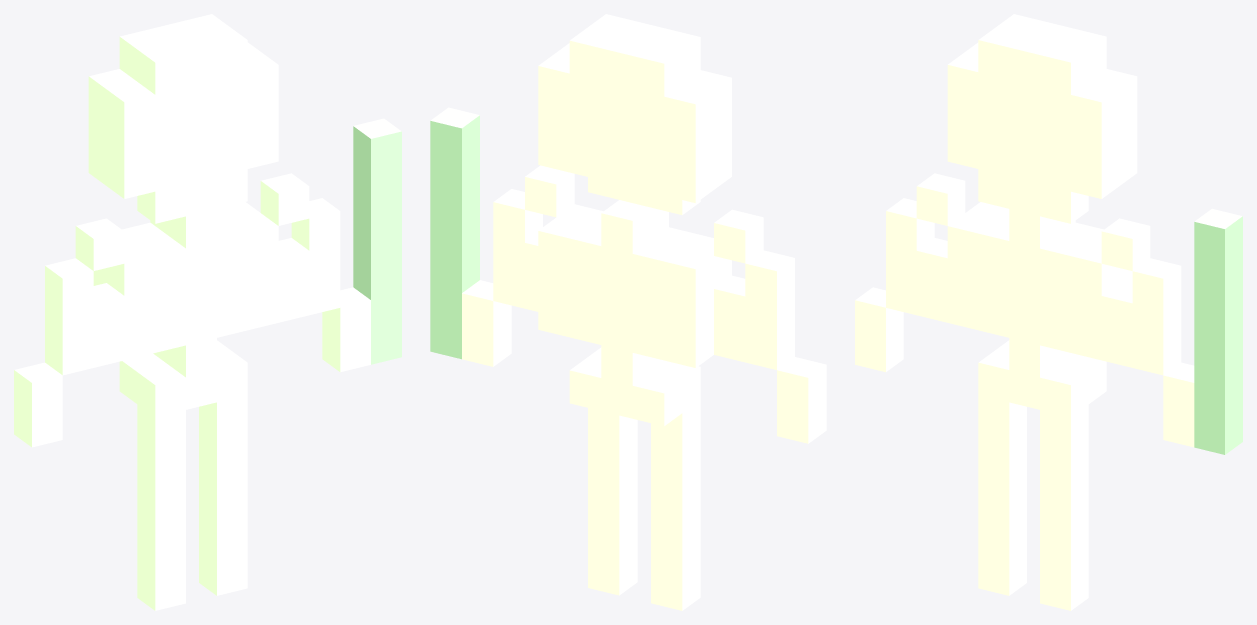
File: skeleton_minion.glb
3 renders of one model, left to right at view 1: azimuth 30°, elevation 25°; view 2: azimuth 150°, elevation 25°; view 3: azimuth 330°, elevation 25°, orthographic. The views are drawn at different scales.
Parts seen in each view (by area): view 1: skeleton_minion; view 2: skeleton_minion; view 3: skeleton_minion.
Part boxes in pixels (left/top/right/bottom): skeleton_minion: left=14, top=14, right=401, bottom=610; skeleton_minion: left=430, top=14, right=826, bottom=610; skeleton_minion: left=855, top=14, right=1242, bottom=610.
Size of the model in its own units: 0.6 by 0.85 by 0.1.
